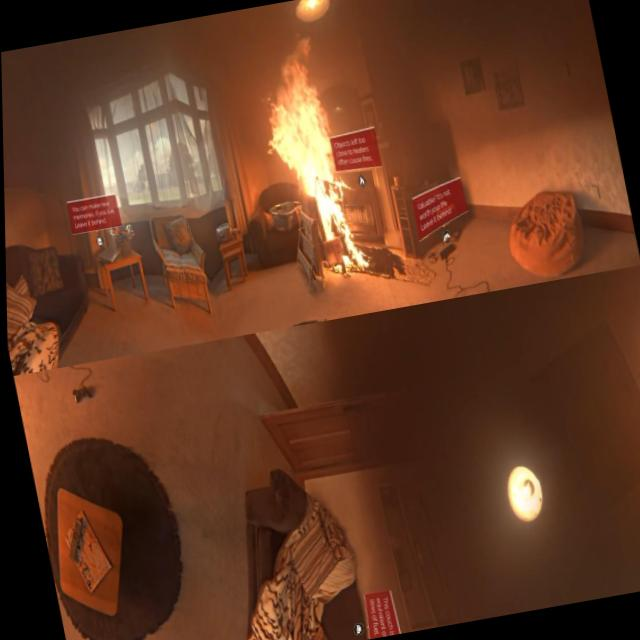fire: (247, 31, 373, 282)
